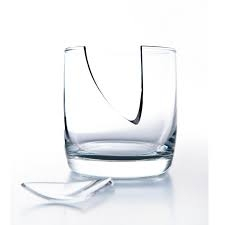glass: (57, 39, 184, 180), (17, 168, 114, 207)
